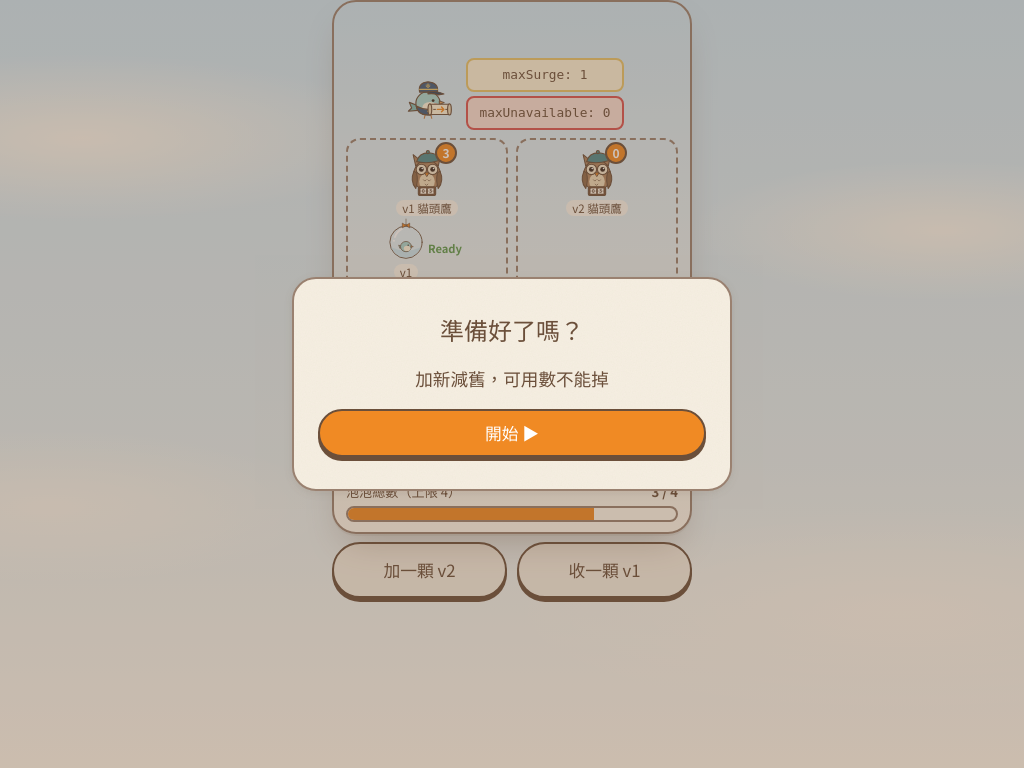
Test: Day10Game › maxSurge 1：總數到 4 顆時不能再加
Click the button with test id "shell-start". click: (512, 433)
box: [318,409,706,457]
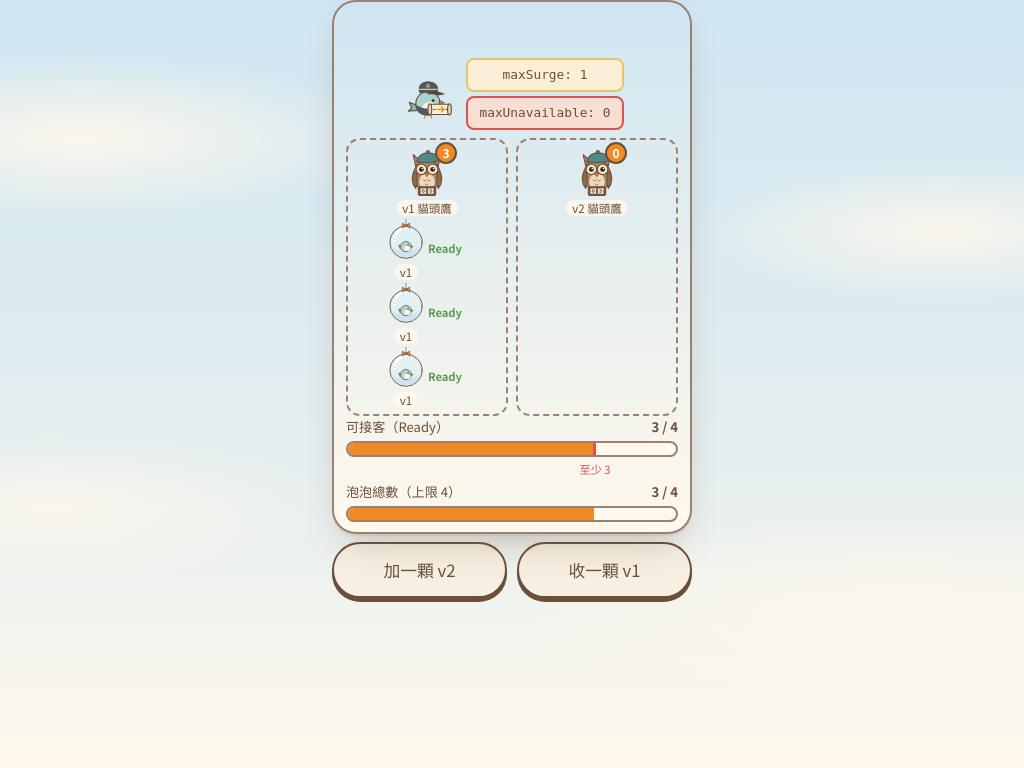
Click the button with test id "add-new". click: (420, 570)
box: [332,542,507,598]
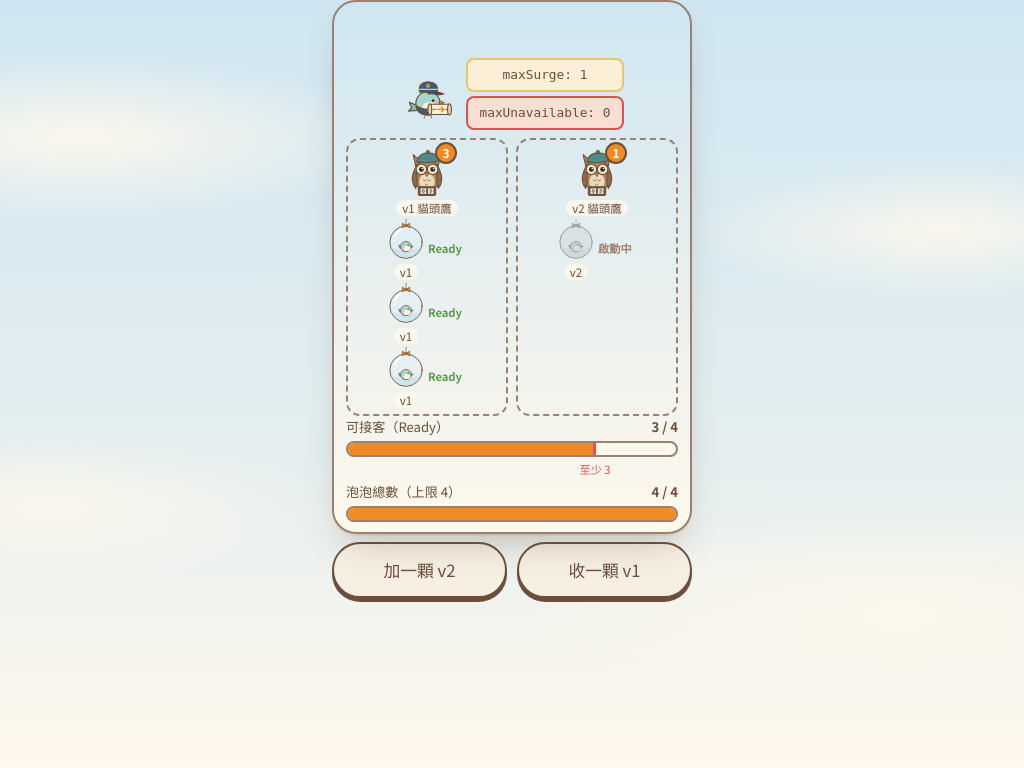
Click the button with test id "add-new". click: (420, 570)
box: [332,542,507,598]
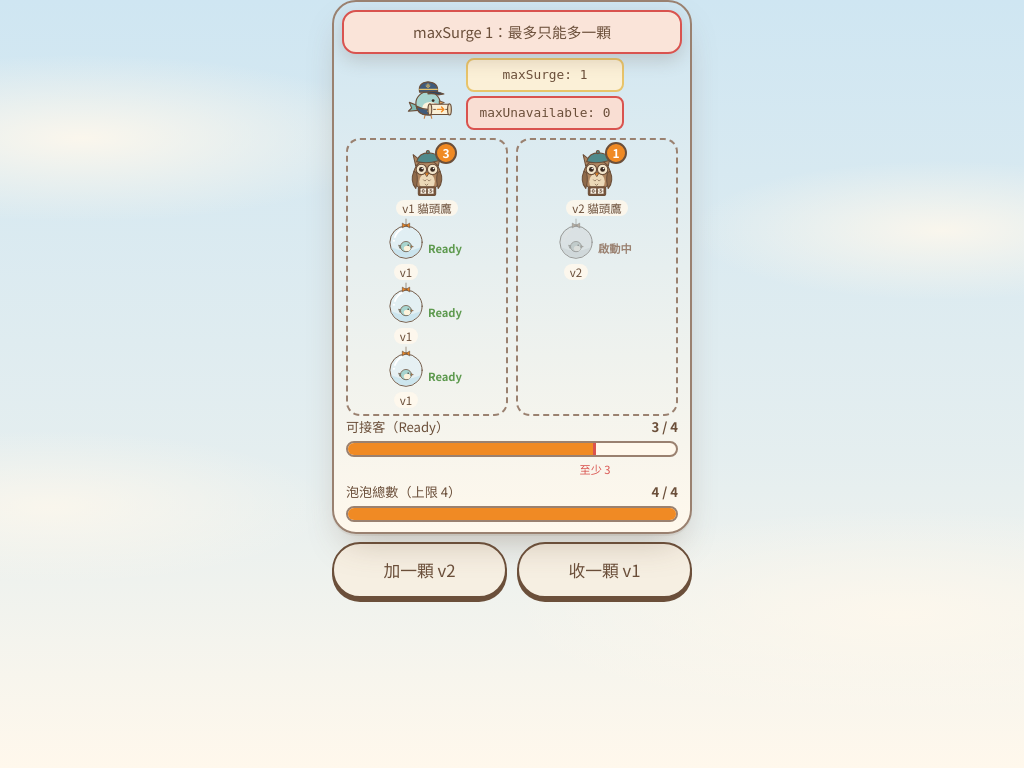
Result: the message "maxSurge 1：最多只能多一顆" is shown at [342,10,682,54]
